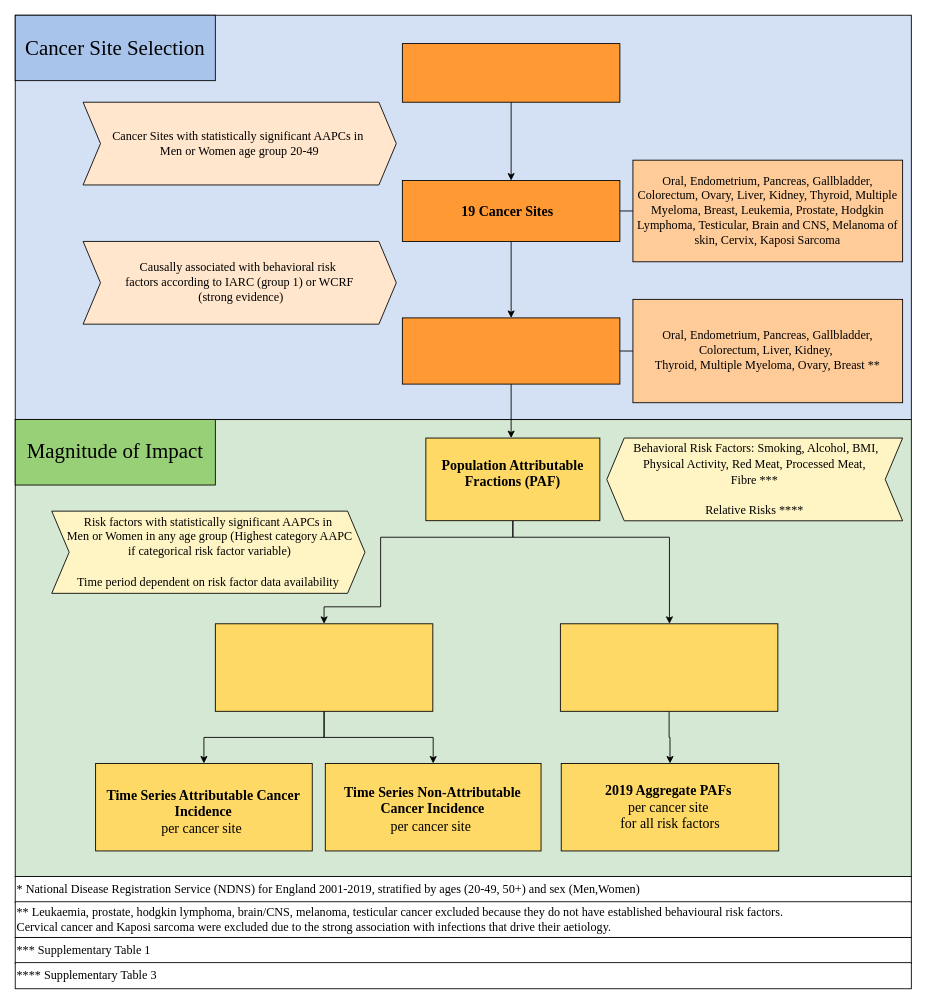
Some shapes in this 927 by 1004 pixel diagram are drawn without their labels. Here are the shapes that lost their labels. From the top down, the box of each, then its label:
(402, 43, 620, 102): 25 Cancer Sites*
(402, 317, 620, 384): 11 Cancer Sites
(214, 623, 433, 711): Time Series PAFs per cancer site for risk factors with an increasing trend
(559, 623, 778, 711): 2019 PAFs per cancer site for individual risk factors
